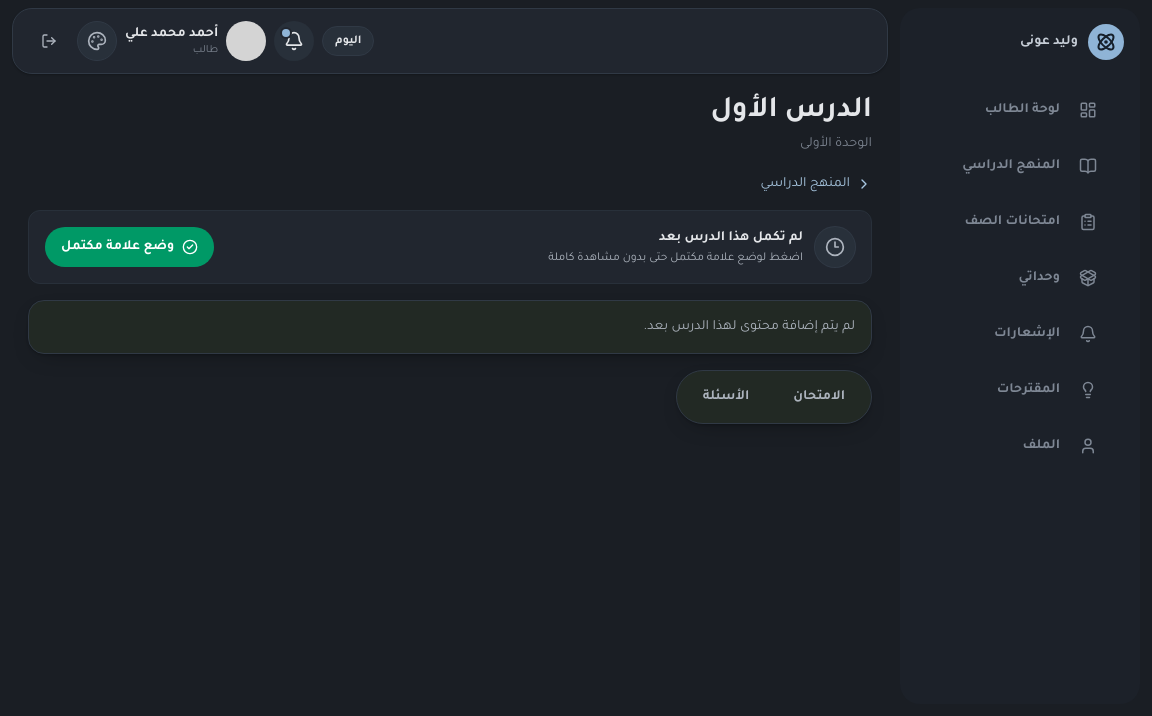
Test case: StudentLessonPage — exams tab › blocks submitting an incomplete exam client-side
Click the tab with test id "lesson-tab-exams" at (819, 397), box [773,377,865,417]
(page scrolled)
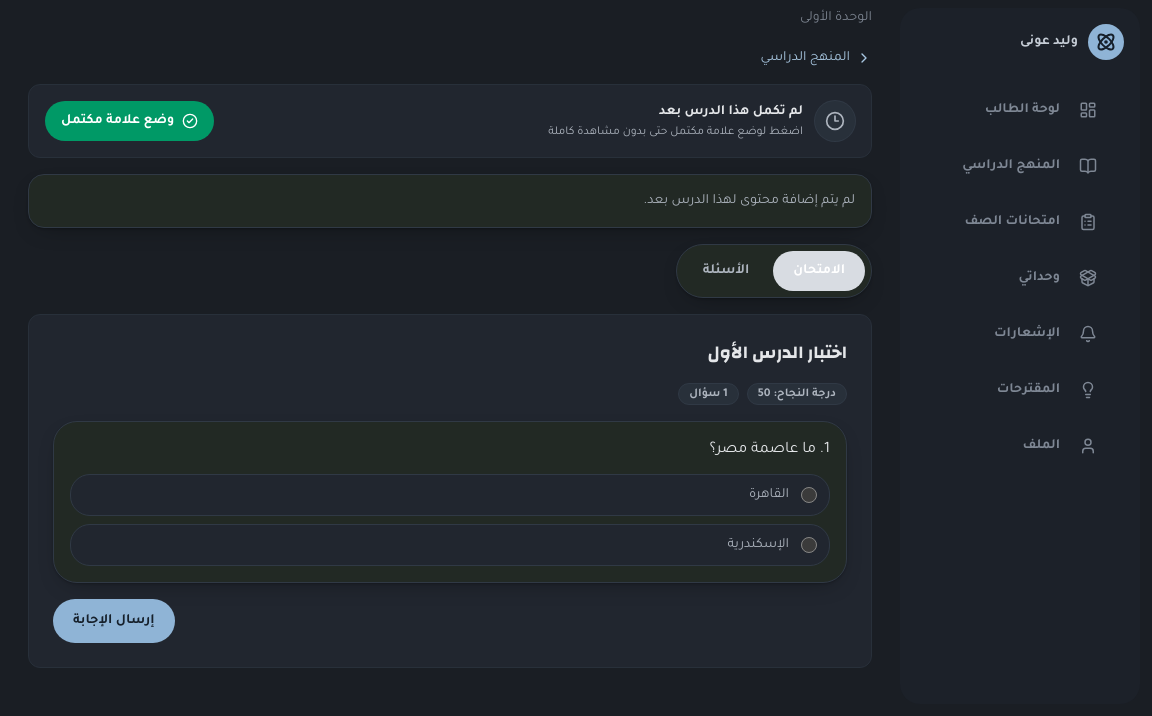
Click the button with test id "exam-submit-exam-1" at (114, 621), box [53,599,174,643]
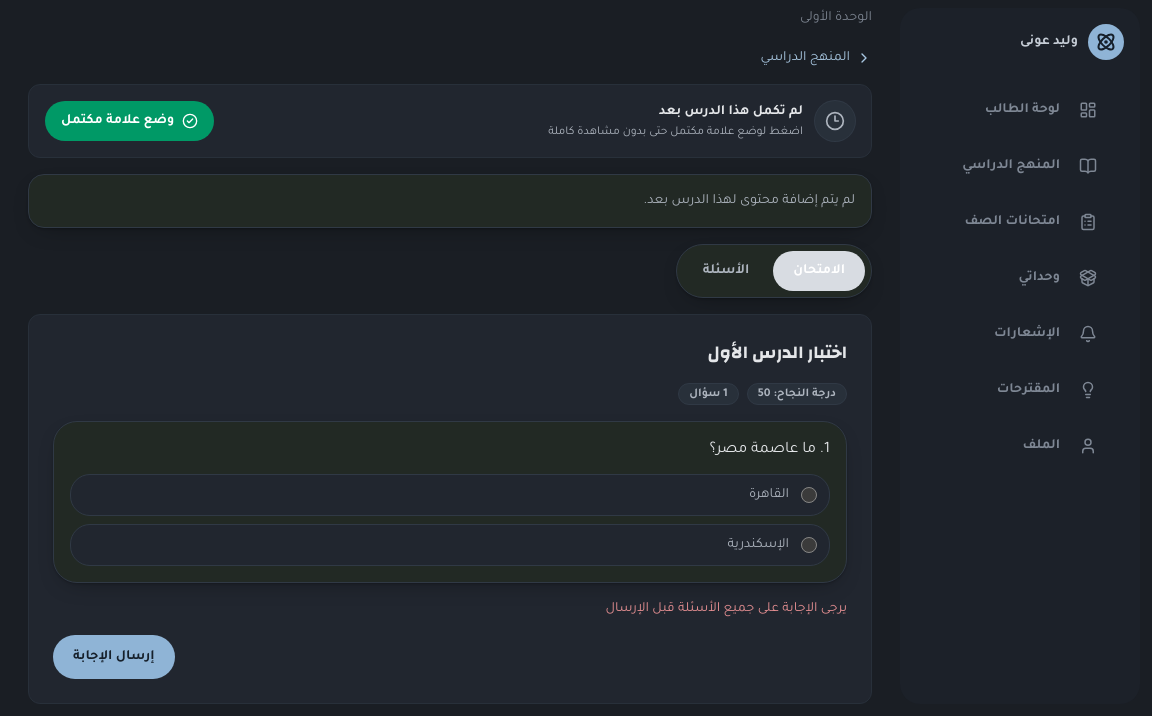
Expected: the text "يرجى الإجابة على جميع الأسئلة قبل الإرسال" is shown, [605,602,847,616]
